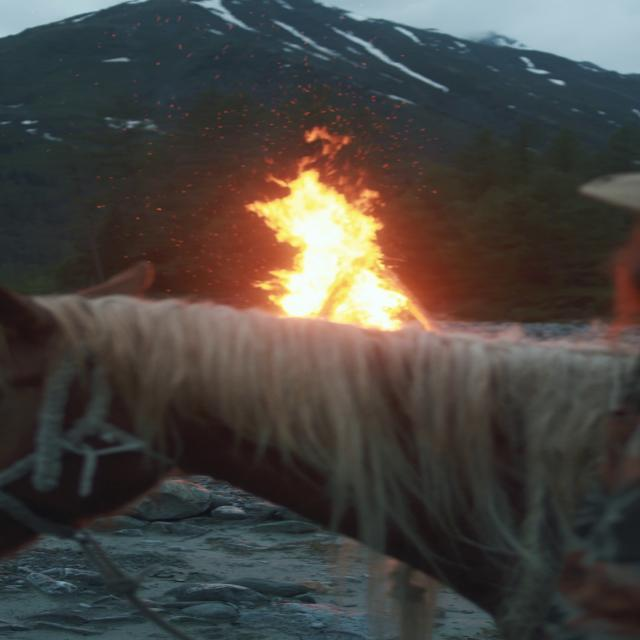Fire: (225, 152, 443, 333)
